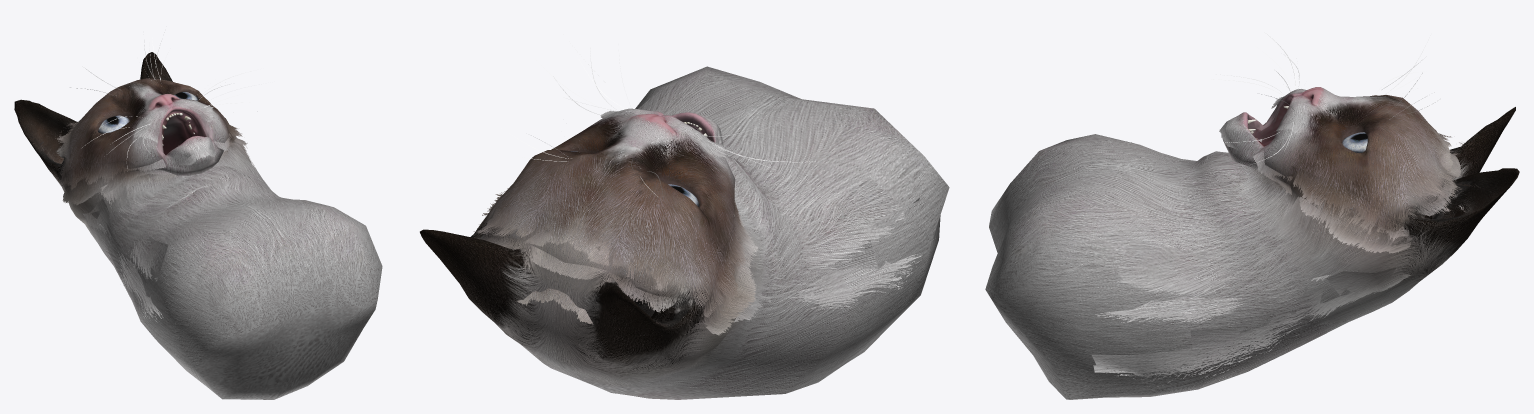
File: cat.obj
3 views of the same model, side by side, from view 1: azimuth 30°, elevation 25°; view 2: azimuth 150°, elevation 25°; view 3: azimuth 270°, elevation 25° (orthographic). The views are drawn at different scales.
Parts seen in each view (by area): view 1: body_Untitled_Material.002, body_Untitled_Material.003; view 2: body_Untitled_Material.002, body_Untitled_Material.003; view 3: body_Untitled_Material.002, body_Untitled_Material.003.
Boxes of the visible parts, box(x1,y1,x2,y2) form: body_Untitled_Material.002: box(14, 52, 382, 399); body_Untitled_Material.003: box(39, 32, 261, 322); body_Untitled_Material.002: box(420, 66, 949, 399); body_Untitled_Material.003: box(473, 44, 933, 335); body_Untitled_Material.002: box(985, 87, 1519, 399); body_Untitled_Material.003: box(1092, 34, 1490, 386).
Bounding box in the file's own units: 23.8 × 25.49 × 36.48.
Materials: 2 (2 with a texture image).
